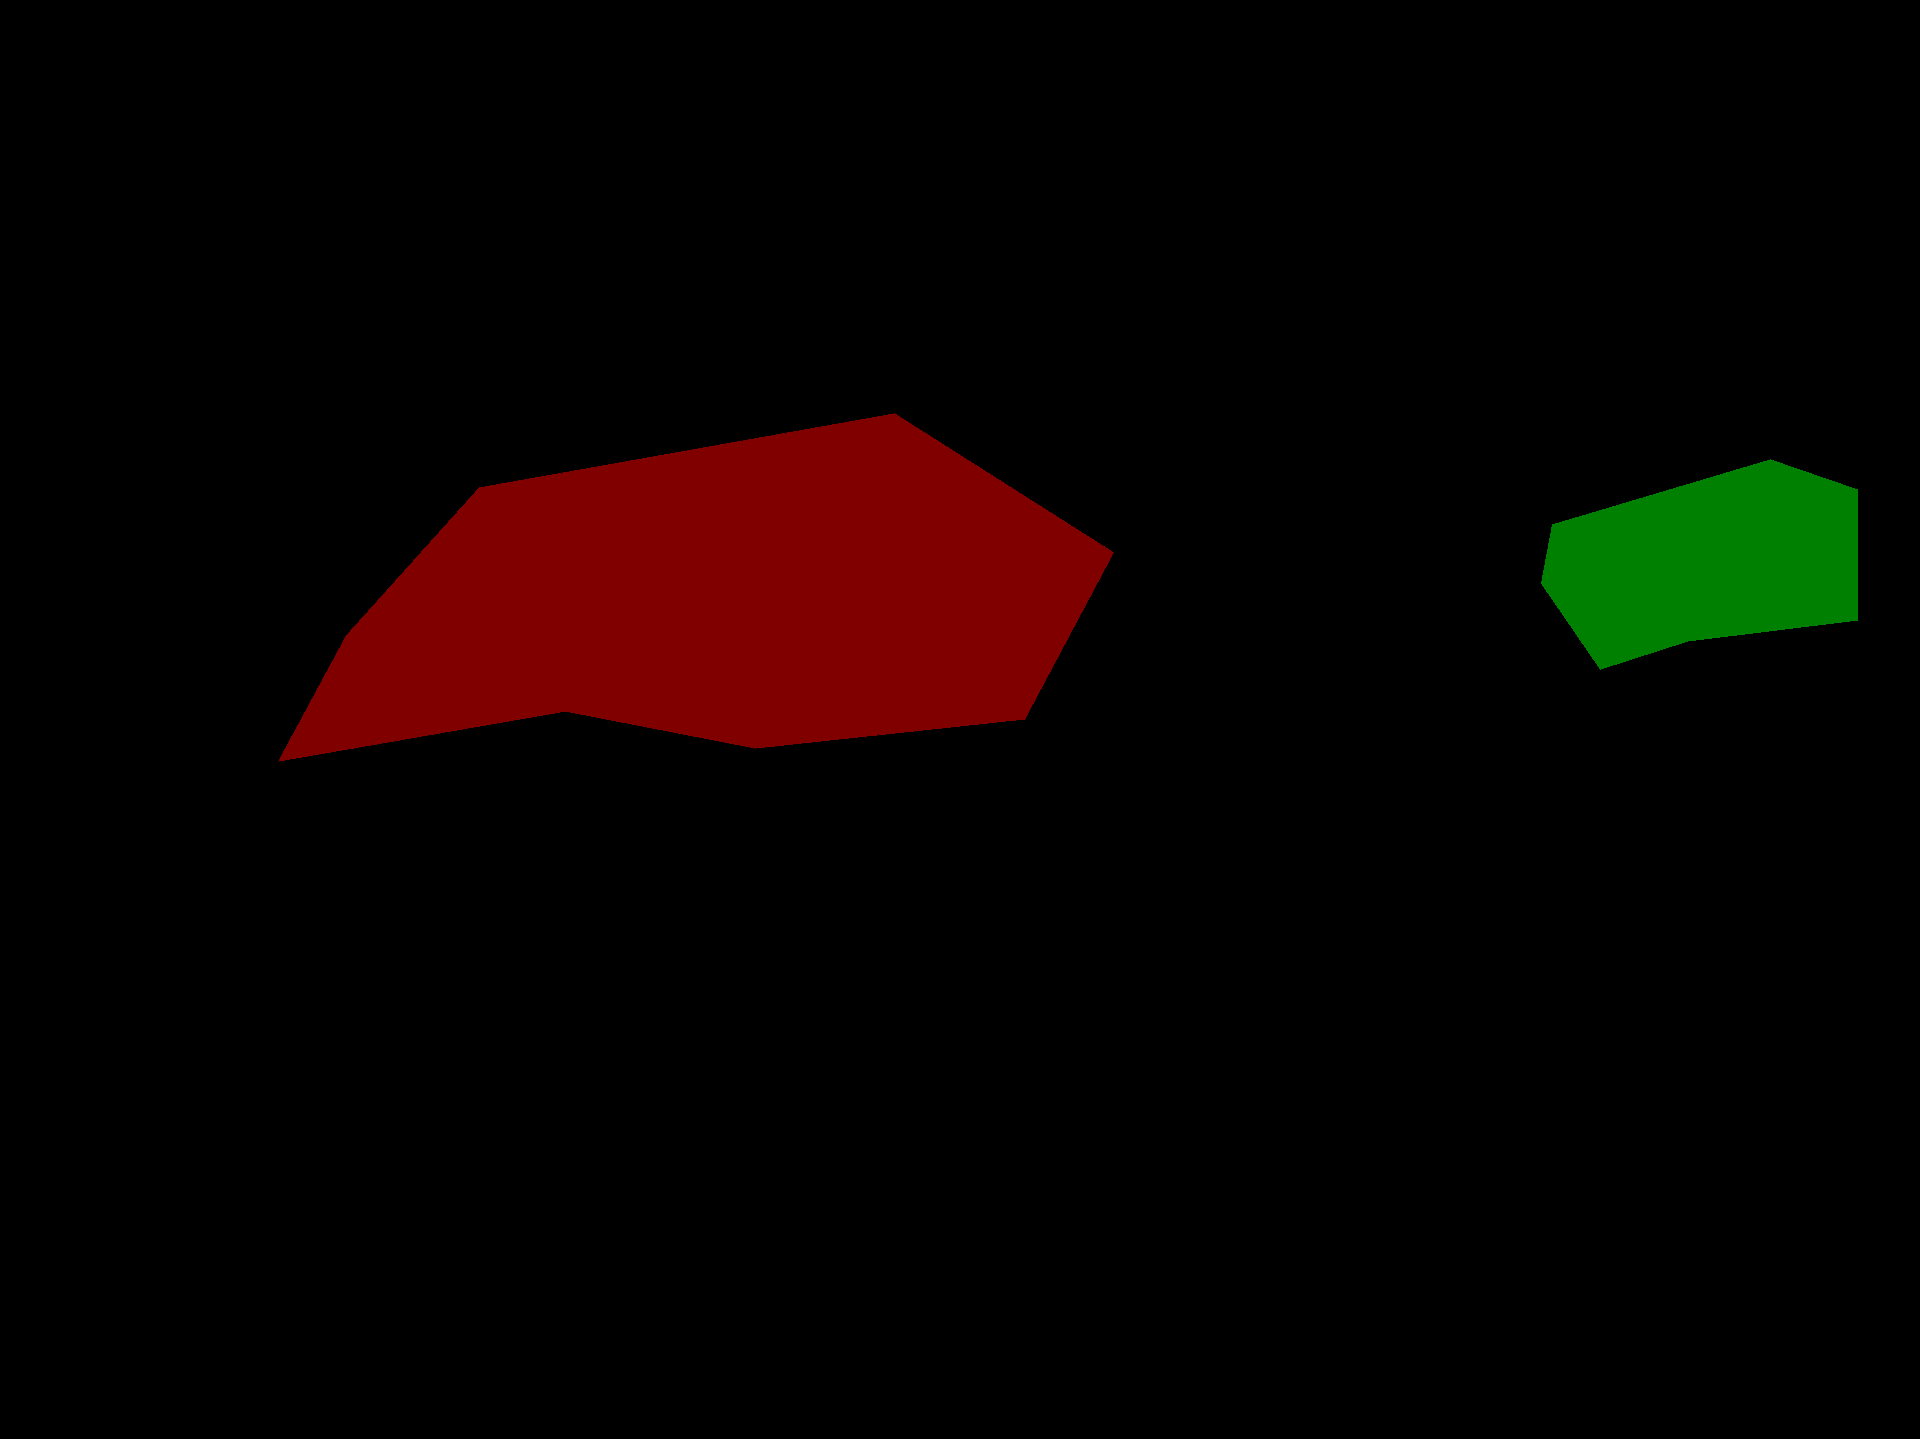fire: (278, 413, 1113, 760), (1541, 460, 1857, 670)
